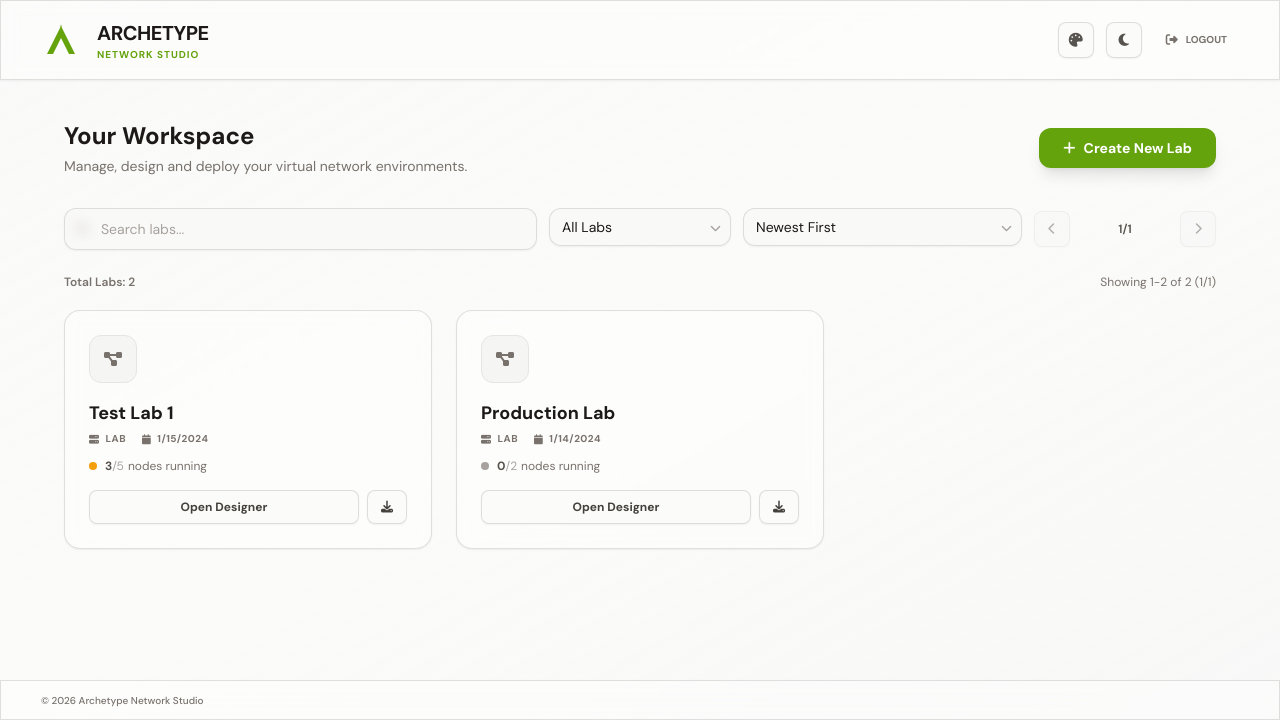
it: Dashboard › filters labs with search input
Type "Production" into the field labelled "Search labs".
click(300, 229); type("Production")  # box [64,208,537,250]
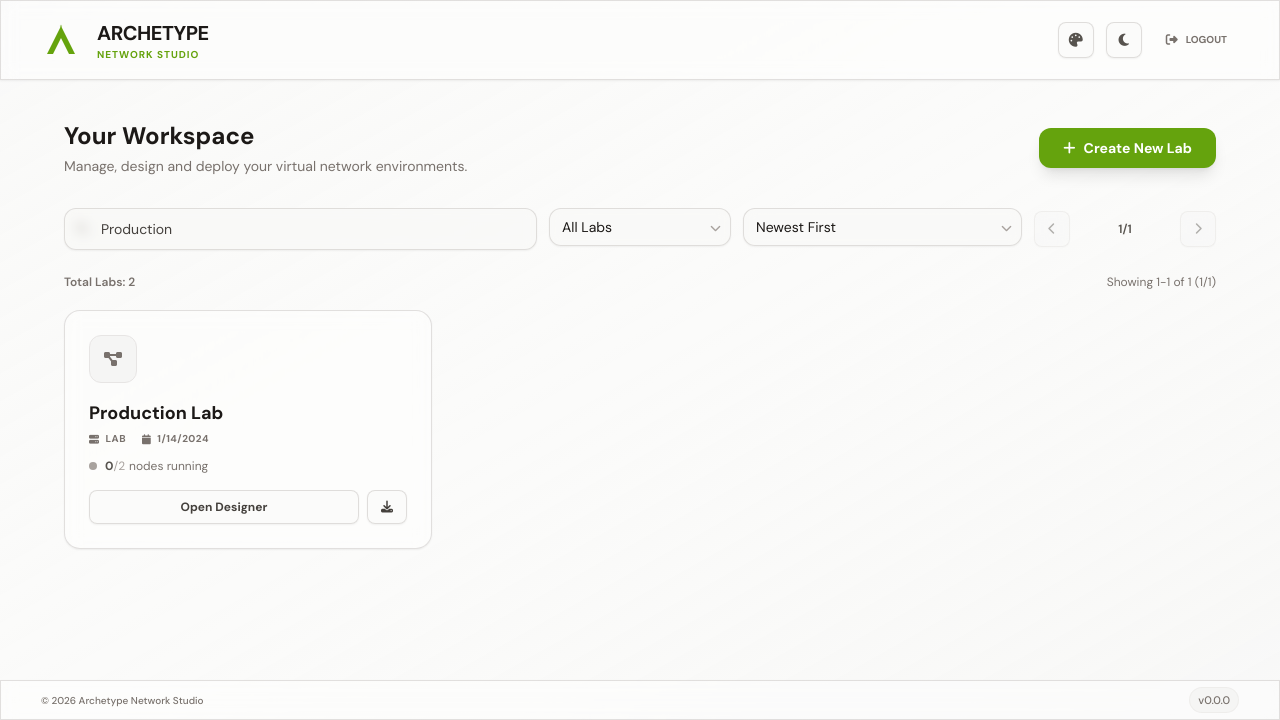
Expected: the heading "Production Lab" is shown, [89,401,223,425]
Now the heading "Test Lab 1" is gone
